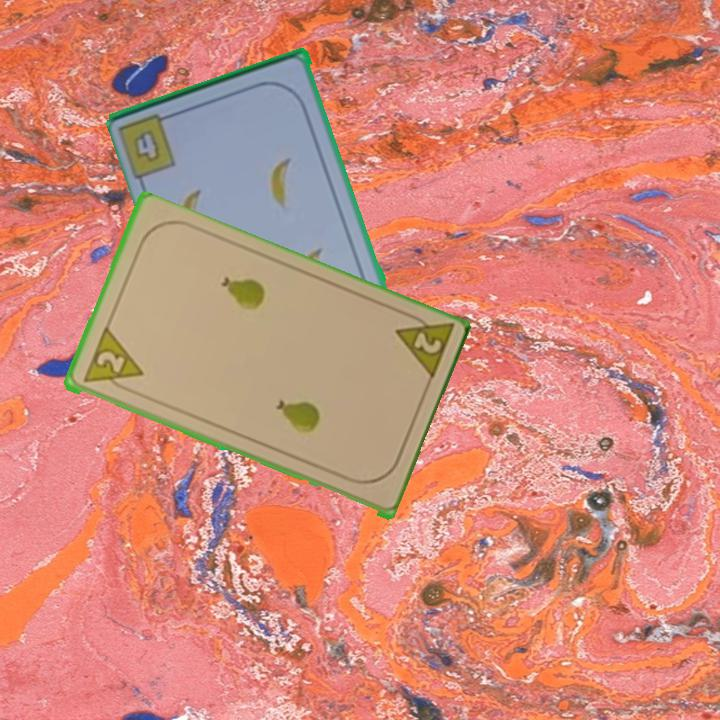2p: (390, 307, 456, 385), (79, 326, 146, 395)
4b: (117, 109, 181, 182)
